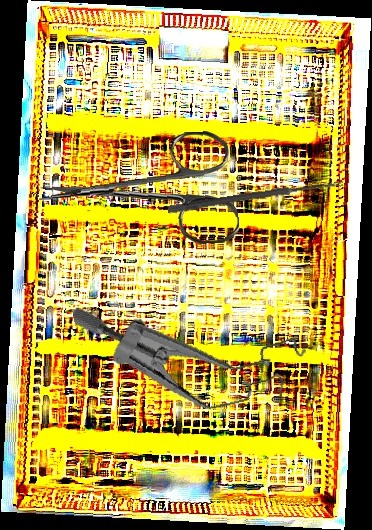Iris Scissors: (36, 129, 240, 253)
Speculum: (71, 259, 315, 441)
Surgical Spoon: (167, 178, 344, 215)
